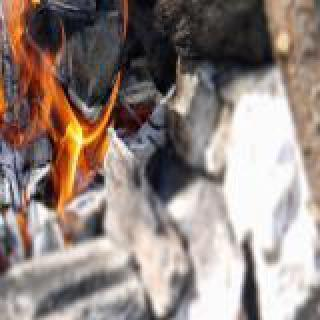fire: (0, 0, 122, 210)
